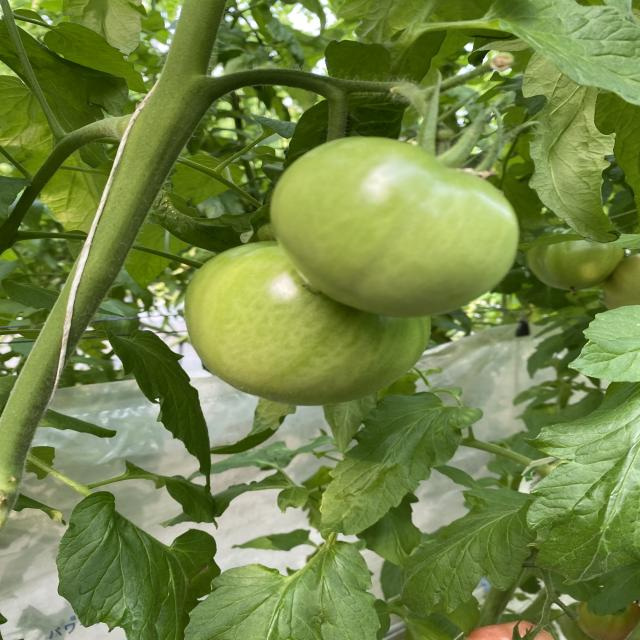yesil: (169, 105, 516, 416)
